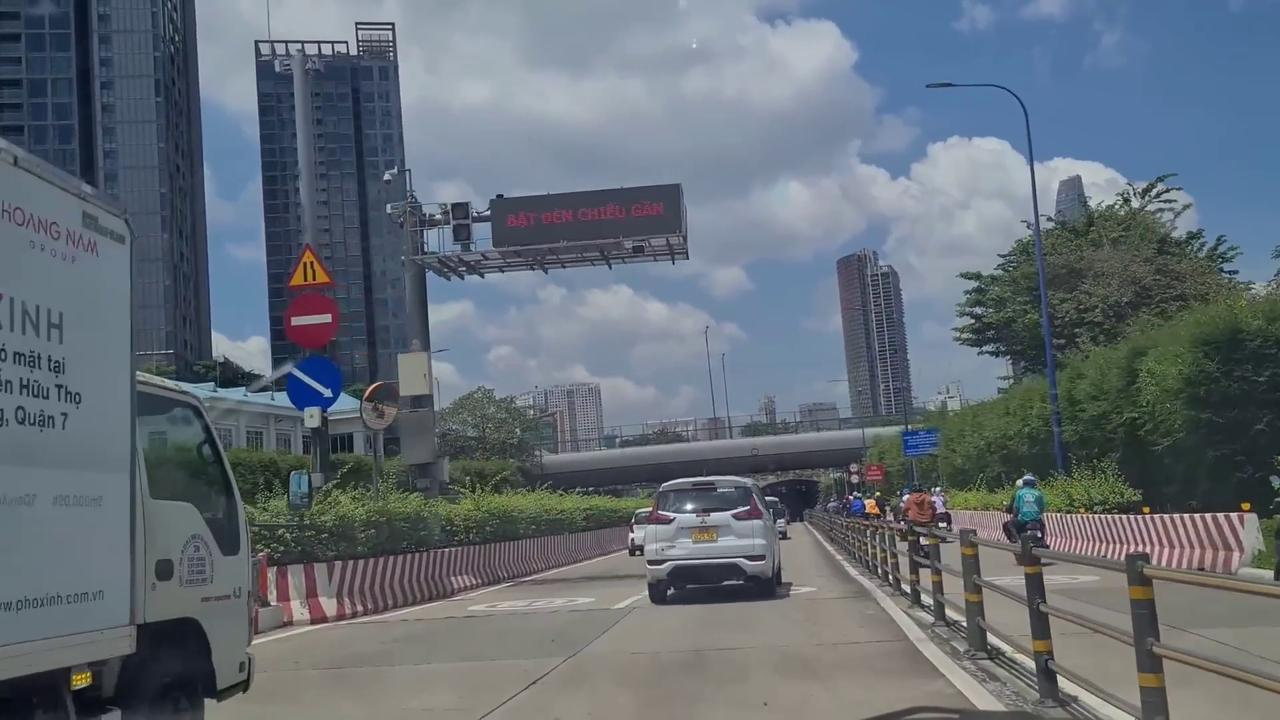Cấm đi ngược chiều: (284, 288, 341, 352)
Hướng phải đi vòng sang phải: (285, 353, 344, 411)
Đuờng hẹp: (282, 244, 336, 287)
